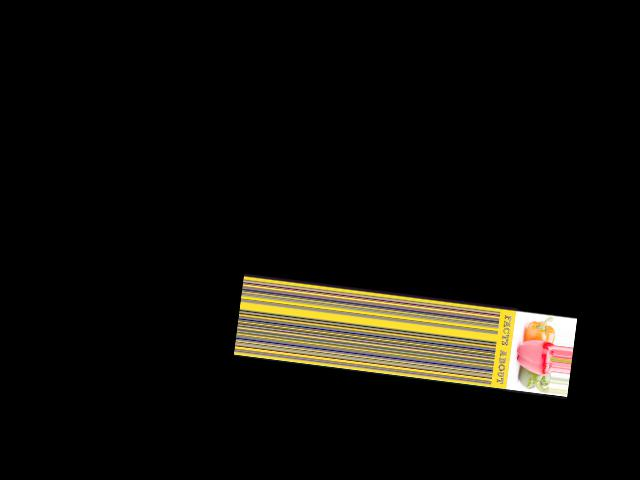bell_pepper: (511, 369, 550, 393)
